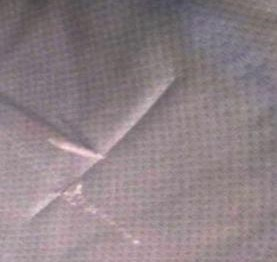snag: (45, 124, 112, 172)
